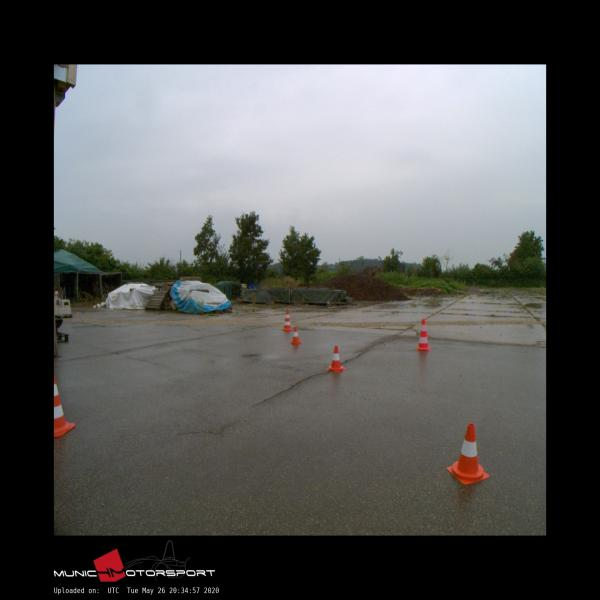large_orange_cone: (54, 370, 74, 437), (415, 318, 430, 350), (282, 309, 293, 330)
orange_cone: (446, 423, 489, 484), (327, 346, 345, 372), (290, 327, 302, 343)
